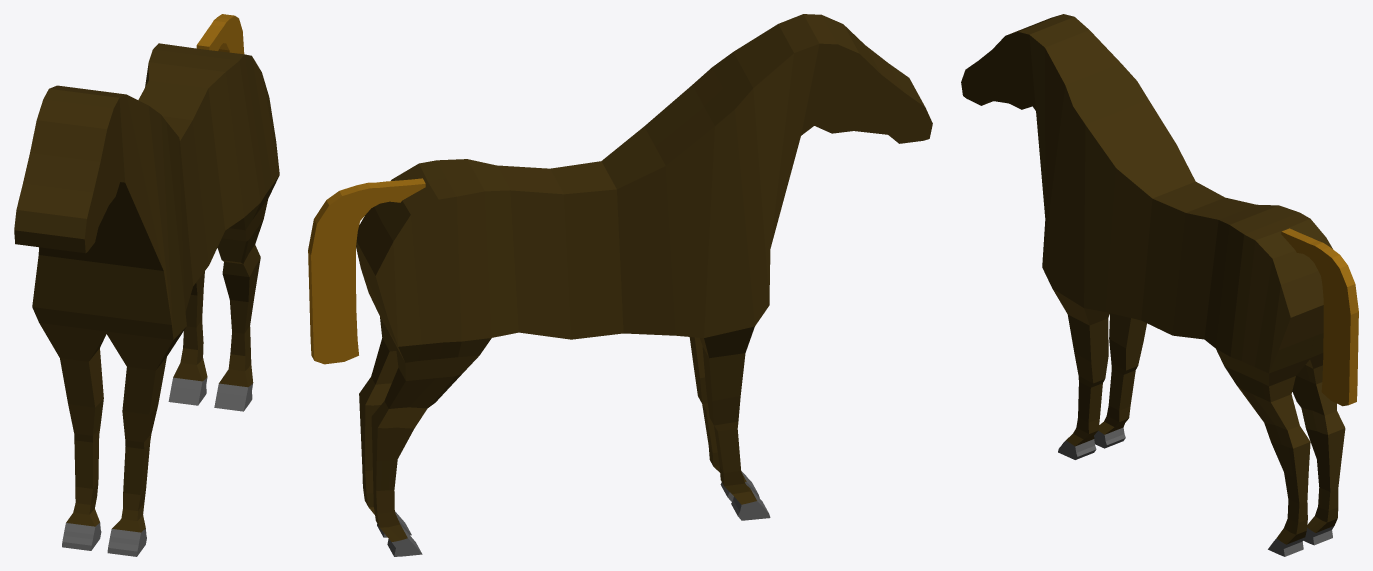
The model's file is Cavalo.fbx.
The picture shows the model from 3 angles, left to right: view 1: azimuth 30°, elevation 25°; view 2: azimuth 150°, elevation 25°; view 3: azimuth 270°, elevation 25°; orthographic projection. The views are drawn at different scales.
Visible parts, largest first — view 1: Cube.001; view 2: Cube.001; view 3: Cube.001.
Part boxes in pixels (bbox=[...]): Cube.001: bbox=[14, 14, 279, 556]; Cube.001: bbox=[308, 14, 932, 556]; Cube.001: bbox=[961, 14, 1358, 556].
Bounding box in the file's own units: 152 × 161 × 143.
